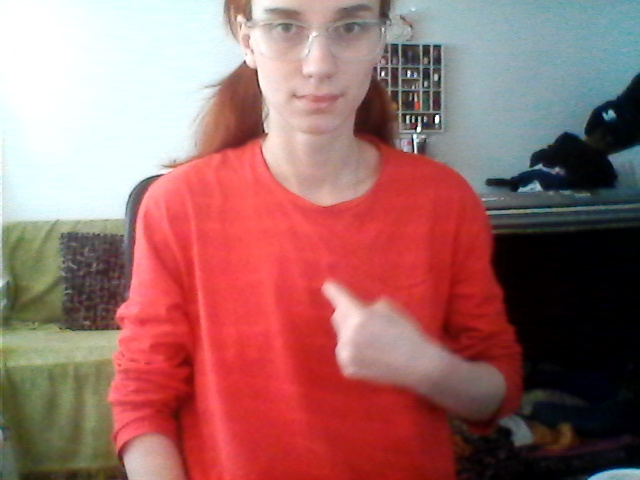ja: (275, 264, 453, 409)
